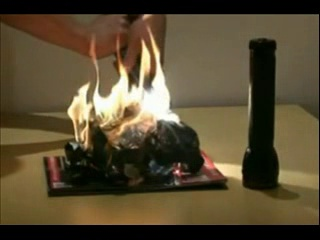fire: (91, 23, 179, 145), (70, 55, 116, 167)
